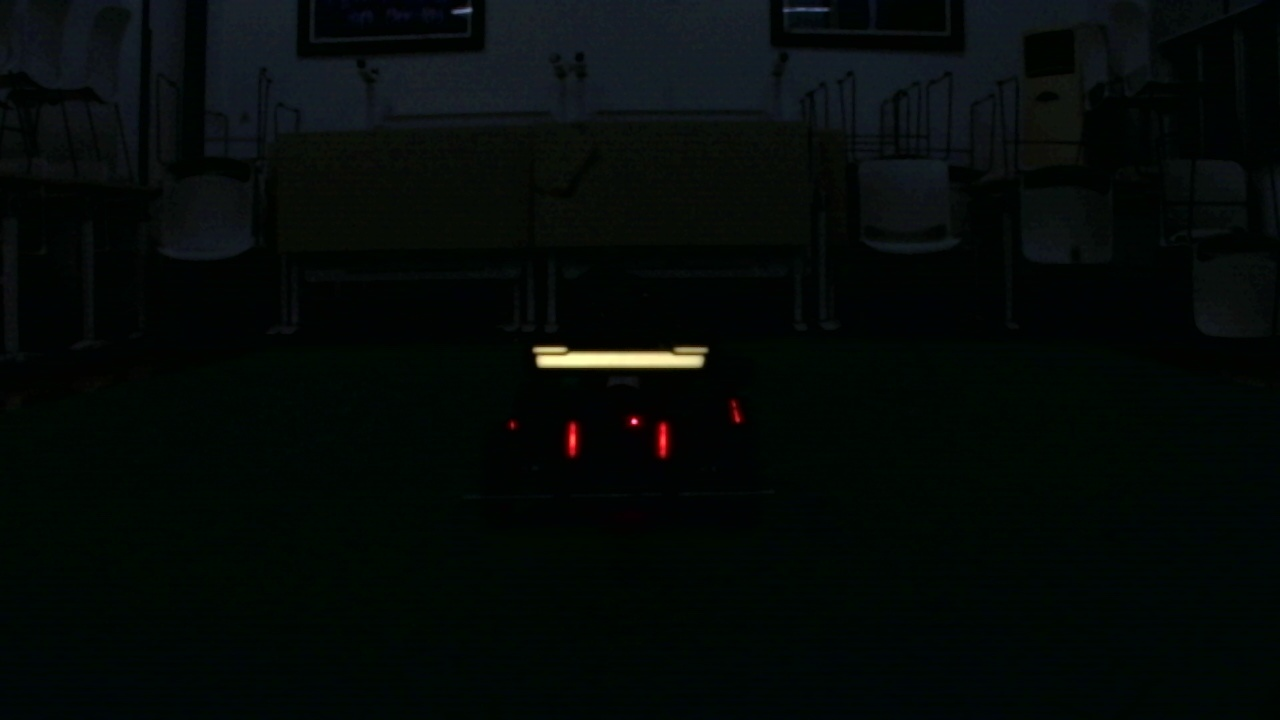lamp: (563, 416, 579, 458), (658, 419, 671, 464)
pair1: (567, 421, 667, 456)
